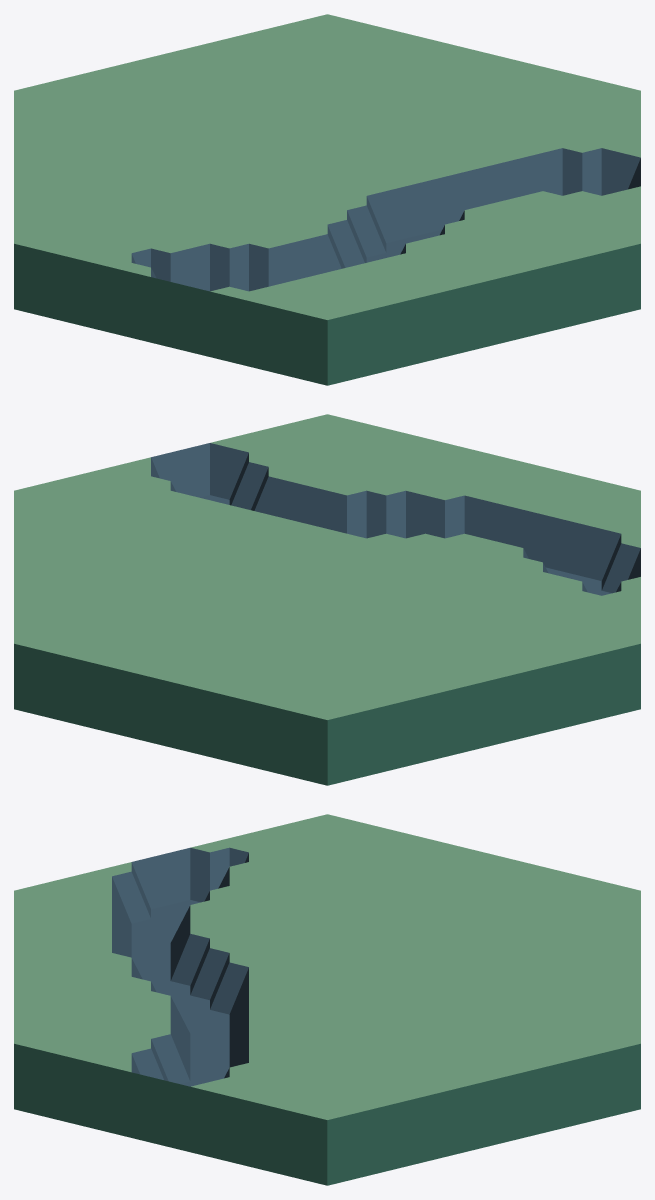
The model's file is terrain.glb.
3 renders of one model, top to bottom at view 1: azimuth 30°, elevation 25°; view 2: azimuth 150°, elevation 25°; view 3: azimuth 270°, elevation 25°, orthographic.
Visible parts, largest first — view 1: Tile_姐妹城堡; view 2: Tile_姐妹城堡; view 3: Tile_姐妹城堡.
Boxes of the visible parts, x1,y1,x2,y2 form: Tile_姐妹城堡: (14, 14, 640, 385); Tile_姐妹城堡: (14, 414, 640, 785); Tile_姐妹城堡: (14, 814, 640, 1185).
Size of the model in its own units: 2 by 0.2 by 1.73.
